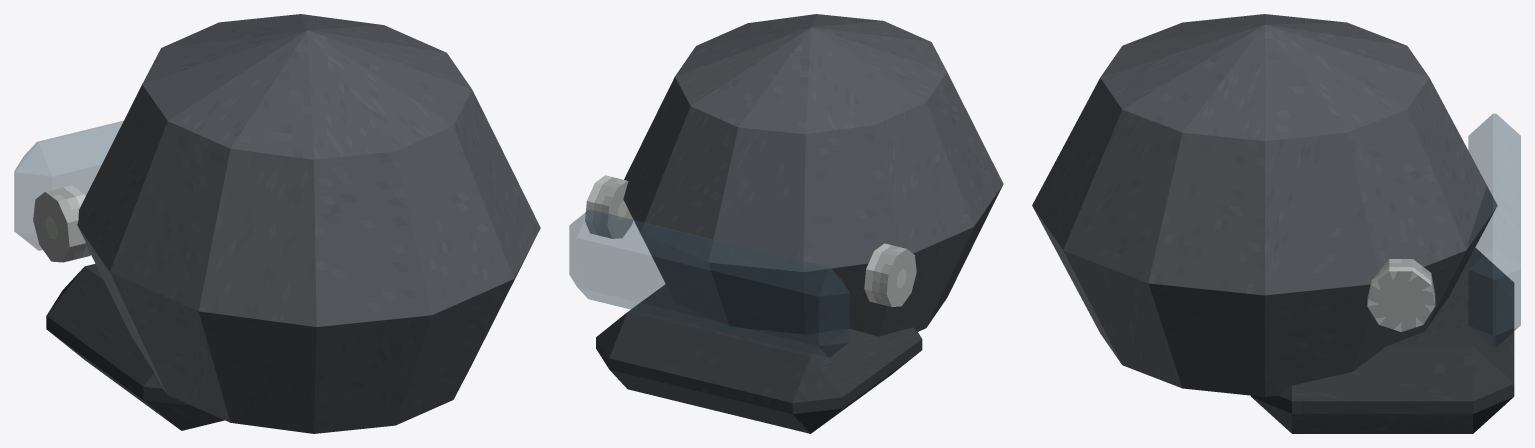
The model's file is helmet_motor.glb.
The picture shows the model from 3 angles, left to right: view 1: azimuth 30°, elevation 25°; view 2: azimuth 150°, elevation 25°; view 3: azimuth 270°, elevation 25°; orthographic projection. The views are drawn at different scales.
Visible parts, largest first — view 1: block_molded helmet shell, block_chin guard, block_wraparound glareproof visor, block_visor pivot; view 2: block_molded helmet shell, block_chin guard, block_wraparound glareproof visor, block_visor pivot (×2); view 3: block_molded helmet shell, block_chin guard, block_wraparound glareproof visor, block_visor pivot.
Boxes of the visible parts, left/top/right/bottom form: block_molded helmet shell: left=77, top=14, right=540, bottom=433; block_chin guard: left=46, top=263, right=224, bottom=430; block_wraparound glareproof visor: left=14, top=121, right=123, bottom=250; block_visor pivot: left=33, top=185, right=90, bottom=262; block_molded helmet shell: left=623, top=14, right=1003, bottom=336; block_chin guard: left=596, top=284, right=922, bottom=433; block_wraparound glareproof visor: left=569, top=209, right=849, bottom=357; block_visor pivot (×2): left=585, top=175, right=916, bottom=306; block_molded helmet shell: left=1032, top=14, right=1497, bottom=396; block_chin guard: left=1251, top=248, right=1514, bottom=433; block_wraparound glareproof visor: left=1468, top=113, right=1520, bottom=347; block_visor pivot: left=1367, top=259, right=1435, bottom=331.
Size of the model in its own units: 0.2873 by 0.2694 by 0.33.
Materials: 2 (2 with a texture image).
